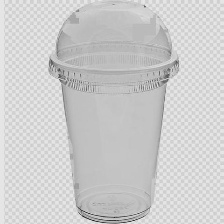glass: (43, 0, 188, 224)
